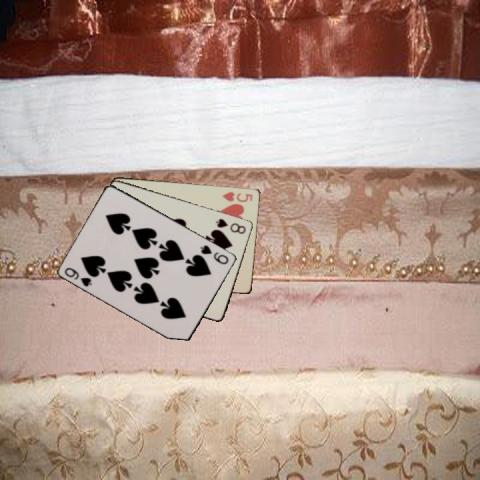5h: (219, 189, 254, 203)
8s: (213, 216, 247, 236)
9s: (197, 242, 230, 266), (62, 265, 94, 288)
